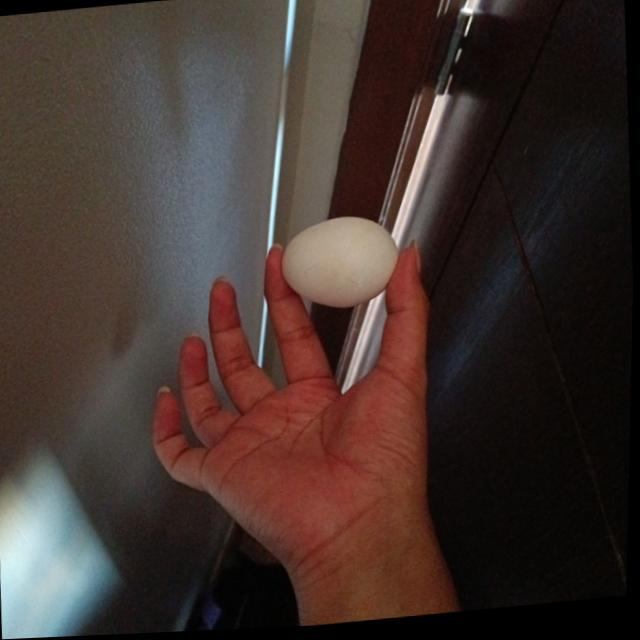egg: (279, 212, 405, 314)
